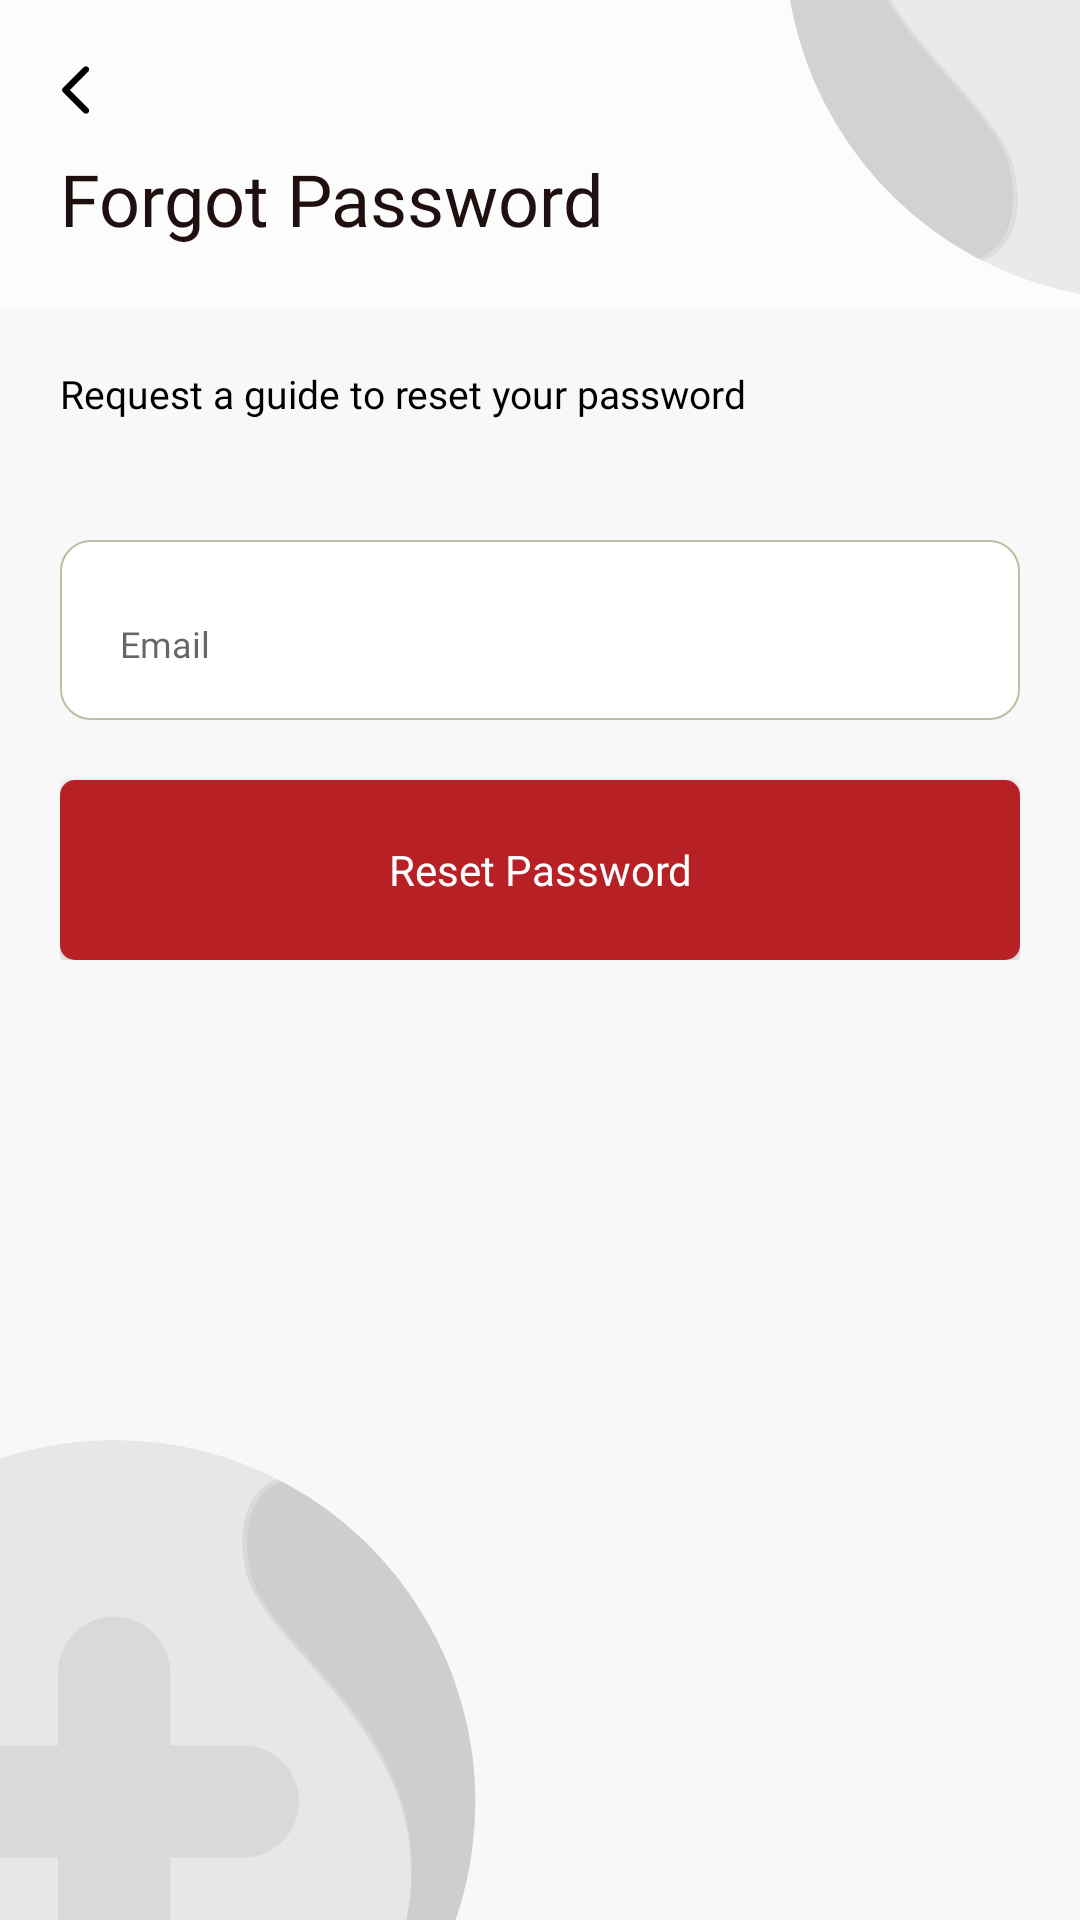

Screen size 1080*1920. Icon name, then its center in pixels as (x=x, y=y):
back: (x=75, y=90)
